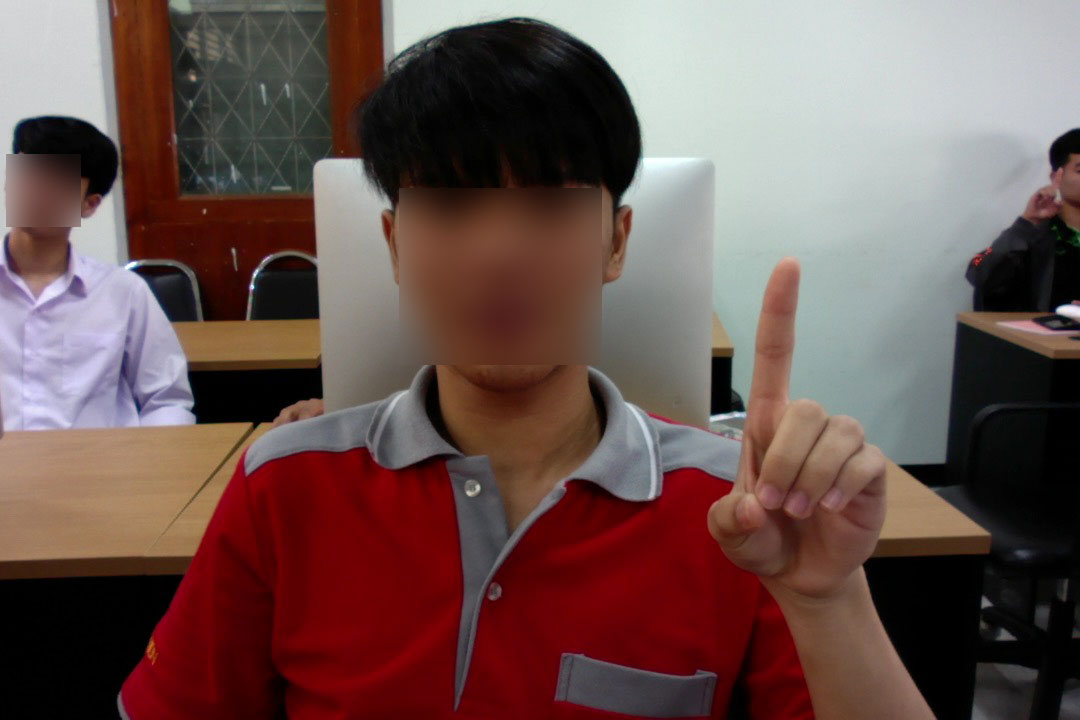dor: (697, 250, 897, 615)
